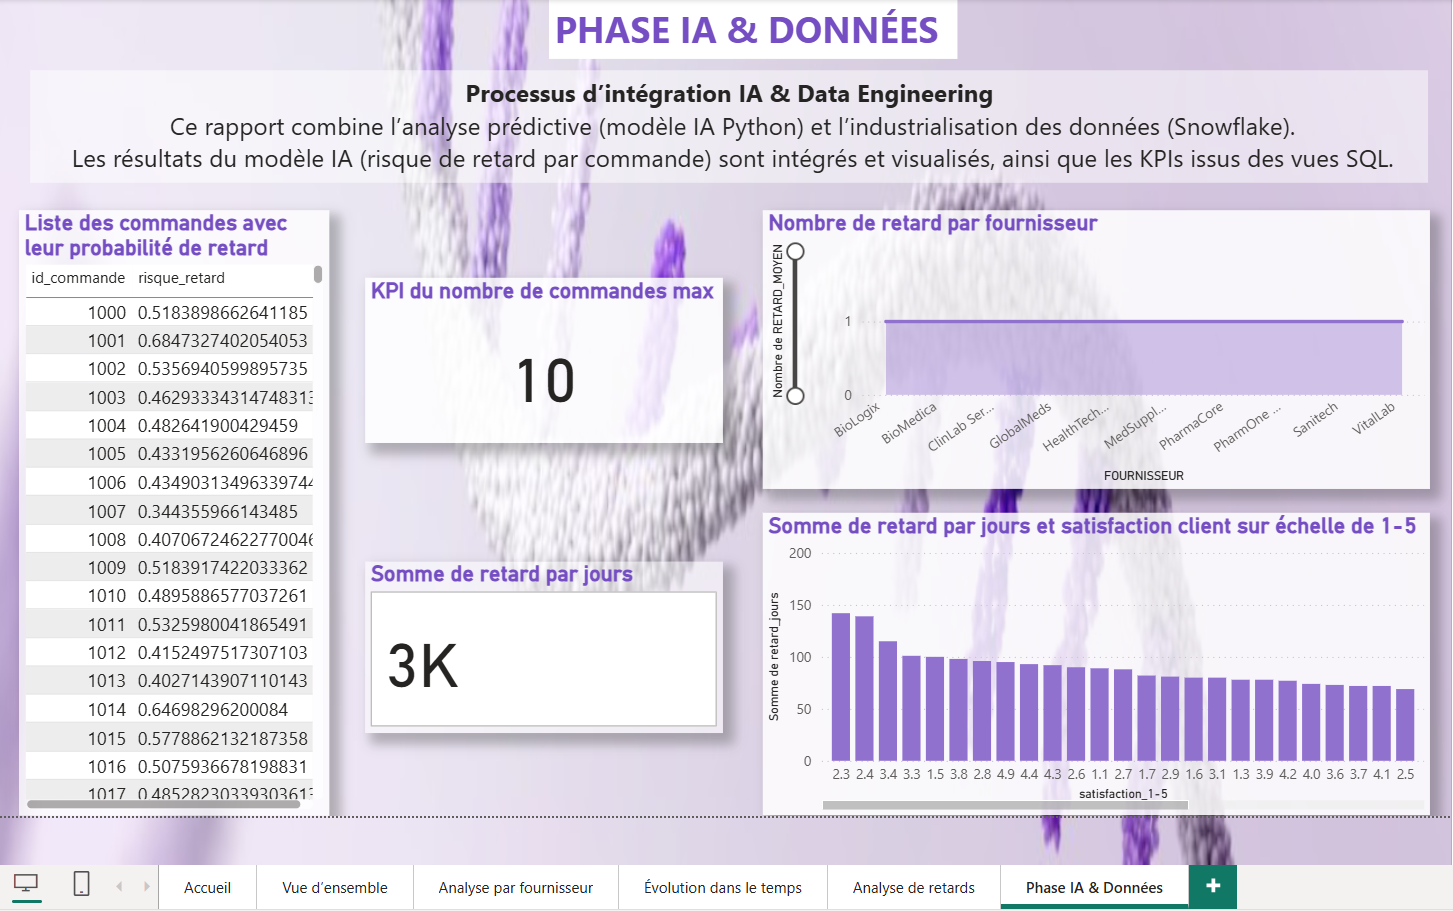

What the dashboard file says about the page in this screenshot:
{"tool":"powerbi","page":{"name":"Phase IA & Données","canvas":[1280,720],"ordinal":5},"visuals":[{"type":"textbox","box":[484.8,0,360.3,52.9],"z":0},{"type":"textbox","box":[27.7,63,1232.4,99.5],"z":4000},{"type":"tableEx","title":"Liste des commandes avec leur probabilité de retard","fields":{"Values":["commandes_avec_risque.id_commande","commandes_avec_risque.risque_retard"]},"box":[17.6,186.2,273.2,533.2],"z":5000},{"type":"card","title":"KPI du nombre de commandes max","fields":{"Values":["CountNonNull(VUE_RETARD_FOURNISSEUR.NB_COMMANDES)"]},"box":[322.8,245.7,315.1,145.4],"z":6000},{"type":"lineChart","title":"Nombre de retard par fournisseur","fields":{"Y":["CountNonNull(VUE_RETARD_FOURNISSEUR.RETARD_MOYEN)"],"Category":["VUE_RETARD_FOURNISSEUR.FOURNISSEUR"]},"box":[673.2,186.2,588.3,245.7],"z":7000},{"type":"cardVisual","title":"Somme de retard par jours","fields":{"Data":["Sum(commandes_avec_risque.retard_jours)"]},"box":[322.8,495.8,315.1,150.9],"z":8000},{"type":"lineStackedColumnComboChart","title":"Somme de retard par jours et satisfaction client sur échelle de 1-5","fields":{"Category":["commandes_avec_risque.satisfaction_1-5"],"Y":["Sum(commandes_avec_risque.retard_jours)"]},"box":[673.2,452.8,588.3,266.6],"z":14000}]}

Visuals, with their boxes on the page's 1280x720 design canvas (x1, y1, x2, y2). These are canvas units, not pixel positions in the 1453x911 screenshot, which may show the page scaled, cropped or inside an application window:
textbox: x1=485, y1=0, x2=845, y2=53
textbox: x1=28, y1=63, x2=1260, y2=162
"Liste des commandes avec leur probabilité de retard" tableEx: x1=18, y1=186, x2=291, y2=719
"KPI du nombre de commandes max" card: x1=323, y1=246, x2=638, y2=391
"Nombre de retard par fournisseur" lineChart: x1=673, y1=186, x2=1262, y2=432
"Somme de retard par jours" cardVisual: x1=323, y1=496, x2=638, y2=647
"Somme de retard par jours et satisfaction client sur échelle de 1-5" lineStackedColumnComboChart: x1=673, y1=453, x2=1262, y2=719
